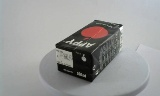appy: (49, 17, 117, 83)
